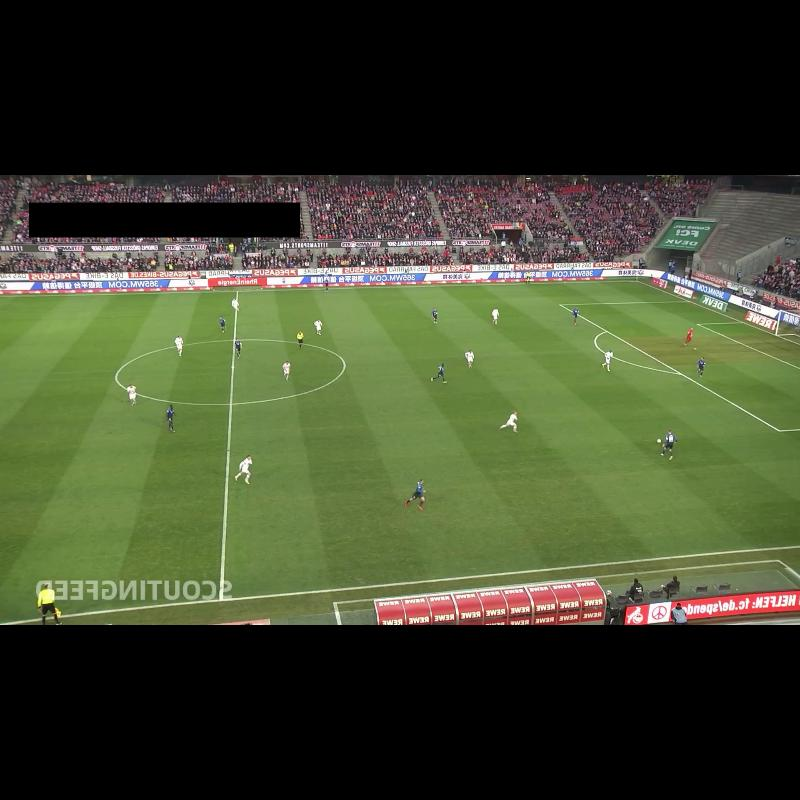cross_recipient_zone: (560, 301, 800, 431)
crossing_player_zone: (632, 429, 800, 549), (440, 281, 688, 306), (0, 297, 15, 312)
pitch: (0, 281, 800, 625)
